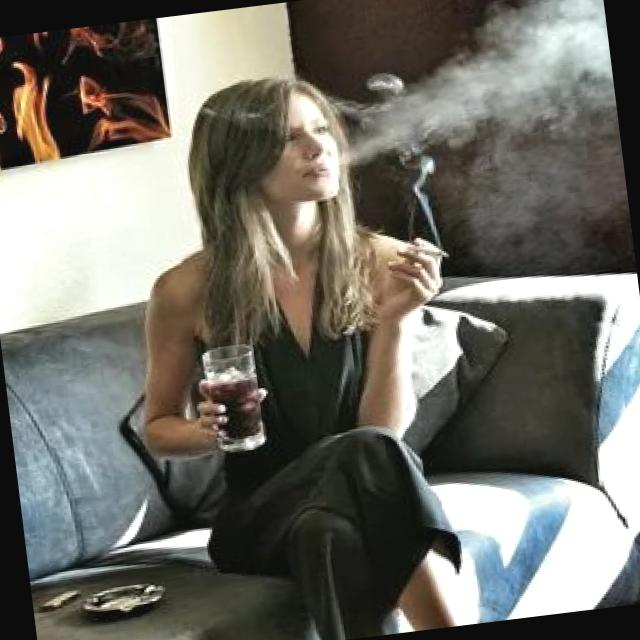smoke: (400, 236, 451, 264)
